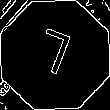L_S: (31, 26, 79, 84)
